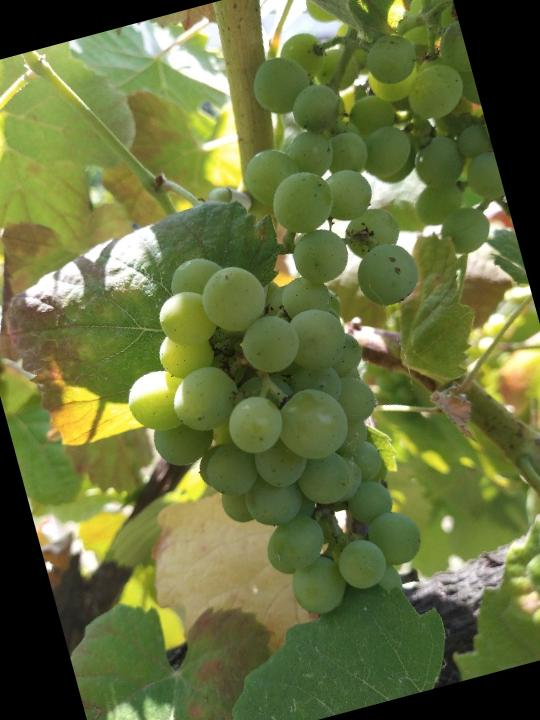grape: (92, 216, 436, 656), (208, 0, 519, 336)
